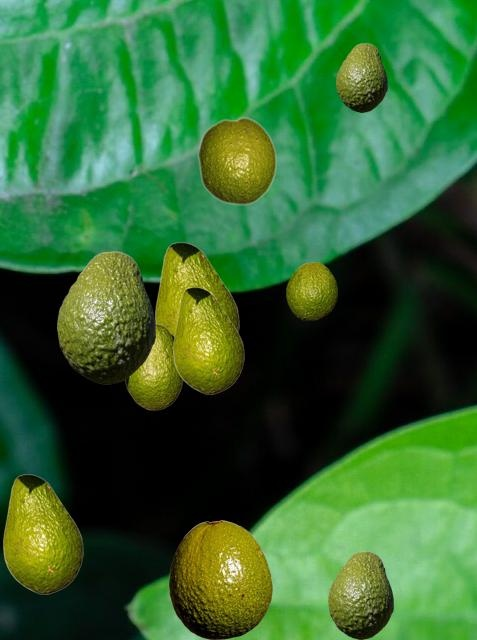avocado: (57, 251, 154, 383), (169, 520, 271, 638), (3, 474, 82, 593), (155, 242, 238, 333), (173, 287, 243, 393), (197, 116, 276, 205), (328, 551, 392, 638), (124, 322, 182, 409), (336, 43, 386, 111), (286, 262, 336, 319)
